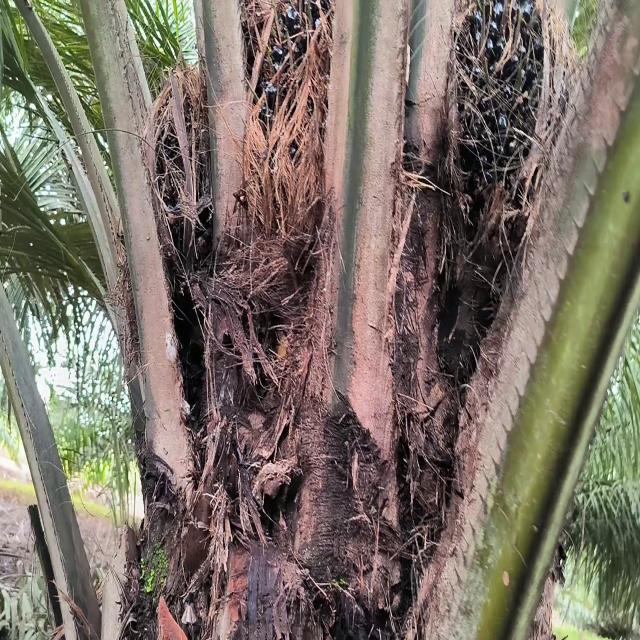palm-oil: (446, 0, 547, 240), (246, 0, 341, 254)
